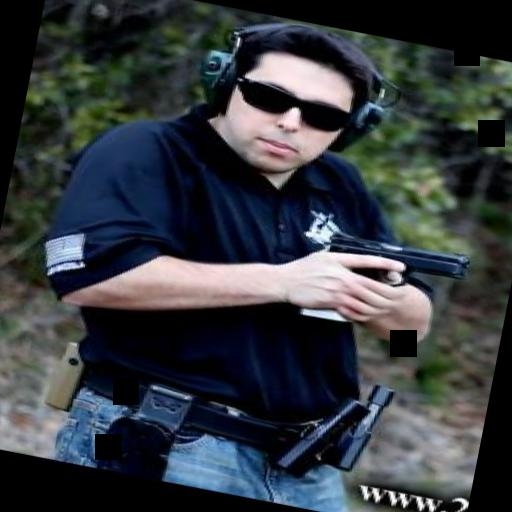Handgun: (304, 224, 476, 348)
